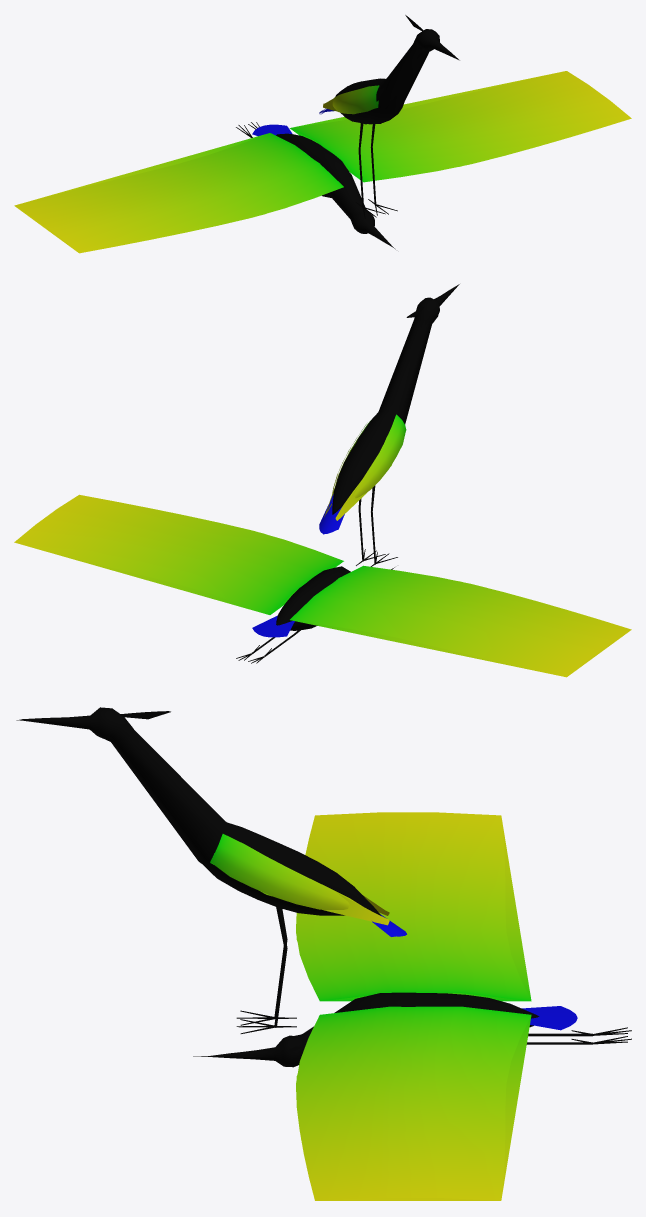
File: heron.glb
3 views of the same model, one above another, from view 1: azimuth 30°, elevation 25°; view 2: azimuth 150°, elevation 25°; view 3: azimuth 270°, elevation 25° (orthographic). The views are drawn at different scales.
Visible parts, largest first — view 1: fly0, stand0, stand1, fly2, fly1; view 2: fly0, stand0, stand1, fly2, fly1; view 3: fly0, stand0, stand1, fly2, fly1.
Boxes of the visible parts, x1,y1,x2,y2 form: fly0: (14, 71, 631, 253); stand0: (319, 15, 458, 218); stand1: (320, 15, 459, 205); fly2: (20, 72, 557, 249); fly1: (16, 95, 460, 250); fly0: (14, 494, 631, 677); stand0: (319, 284, 458, 566); stand1: (323, 284, 459, 564); fly2: (23, 545, 627, 675); fly1: (124, 533, 629, 674); fly0: (206, 812, 631, 1200); stand0: (19, 707, 406, 1033); stand1: (16, 712, 395, 1027); fly2: (193, 816, 531, 1200); fly1: (206, 885, 592, 1200).
Size of the model in its own units: 1.8 by 0.7779 by 1.22.
